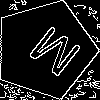M: (20, 24, 84, 86)
